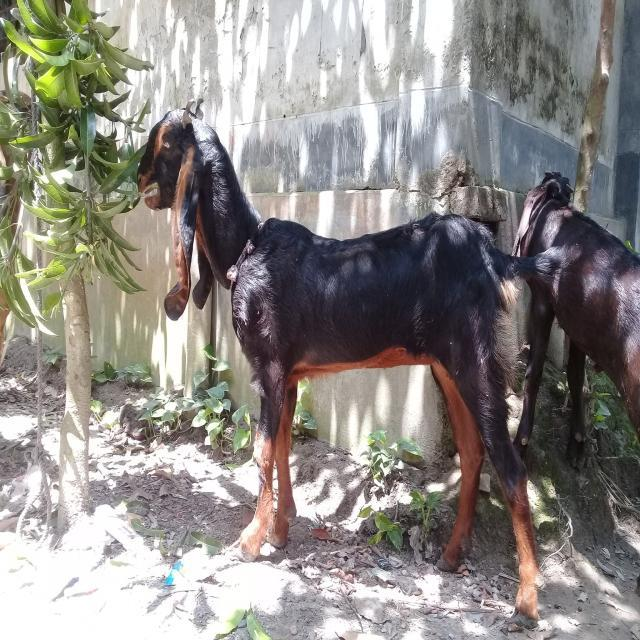Goat: (135, 101, 568, 621), (510, 170, 640, 471)
